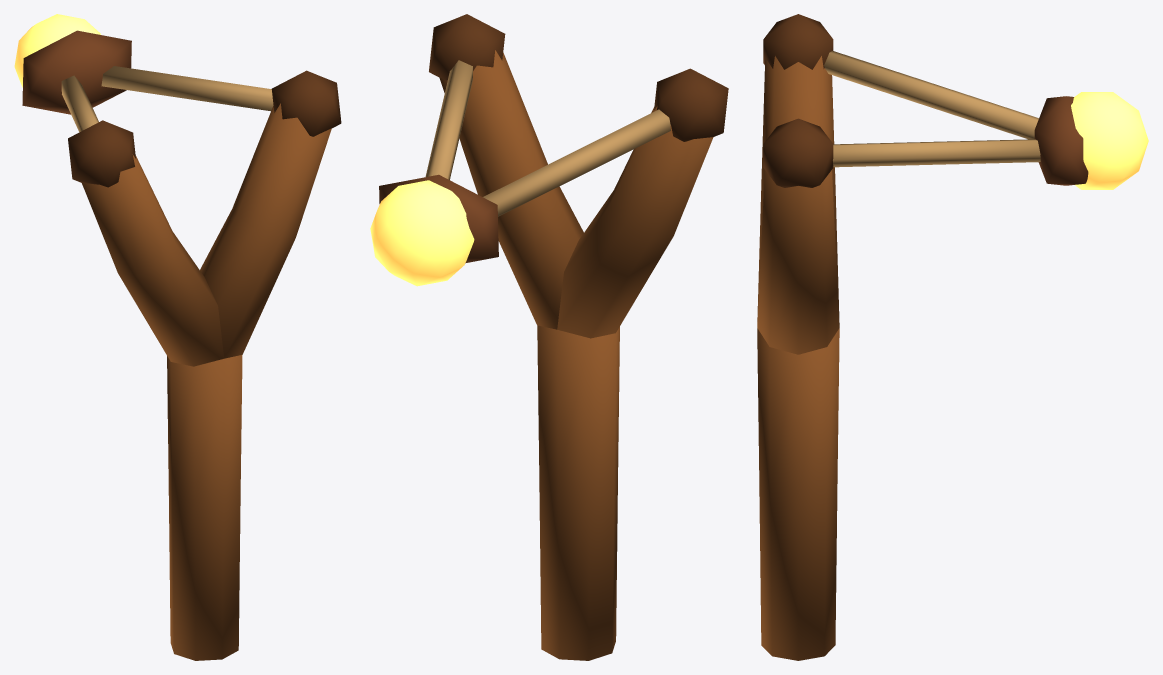
Rendered from bot_sling.glb.
3 views of the same model, side by side, from view 1: azimuth 30°, elevation 25°; view 2: azimuth 150°, elevation 25°; view 3: azimuth 270°, elevation 25° (orthographic). The views are drawn at different scales.
Parts seen in each view (by area): view 1: bot_sling; view 2: bot_sling; view 3: bot_sling.
Boxes of the visible parts, bbox=[...] form: bot_sling: bbox=[14, 14, 341, 660]; bot_sling: bbox=[370, 14, 728, 660]; bot_sling: bbox=[757, 14, 1148, 660].
Size of the model in its own units: 0.1558 by 0.31 by 0.19.
